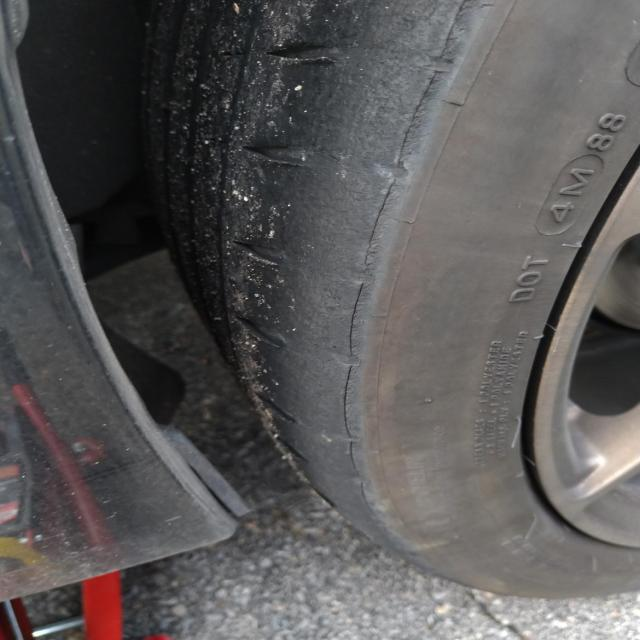Flat spots: (179, 0, 341, 294)
